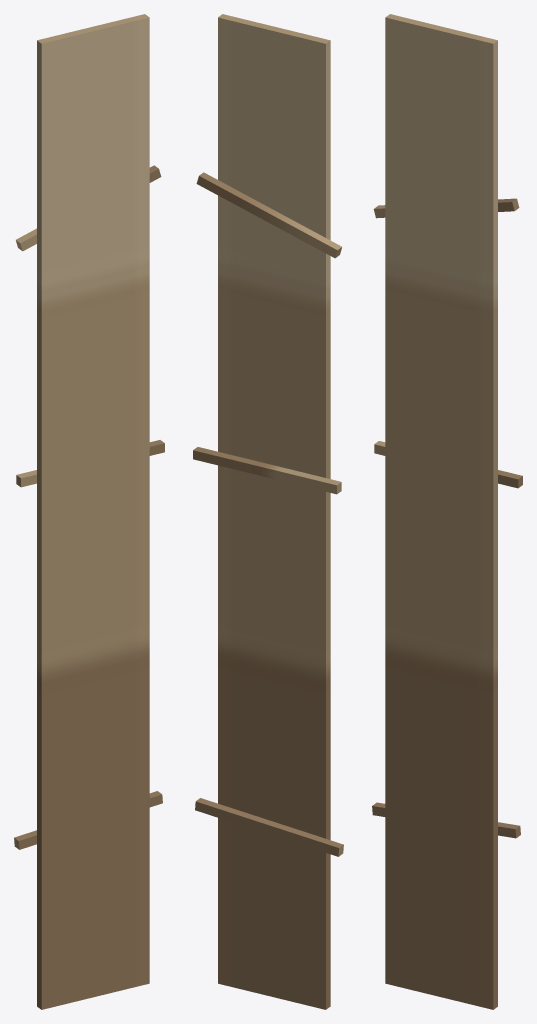
File: Concrete_Pillar_Holder_02.fbx
The picture shows the model from 3 angles, left to right: view 1: azimuth 30°, elevation 25°; view 2: azimuth 150°, elevation 25°; view 3: azimuth 330°, elevation 25°; orthographic projection.
Parts seen in each view (by area): view 1: Concrete_Pillar_Holder_02; view 2: Concrete_Pillar_Holder_02; view 3: Concrete_Pillar_Holder_02.
Part boxes in pixels (bbox=[...]): Concrete_Pillar_Holder_02: bbox=[14, 14, 164, 1009]; Concrete_Pillar_Holder_02: bbox=[193, 14, 343, 1009]; Concrete_Pillar_Holder_02: bbox=[372, 14, 522, 1009].
Bounding box in the file's own units: 45.9 × 290 × 5.19.
